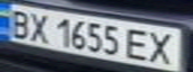1: (48, 16, 72, 47)
5: (103, 23, 127, 57), (84, 20, 106, 54)
6: (66, 18, 87, 51)
B: (3, 7, 33, 39)
E: (124, 26, 154, 62)
X: (145, 28, 181, 66), (24, 10, 54, 44)
